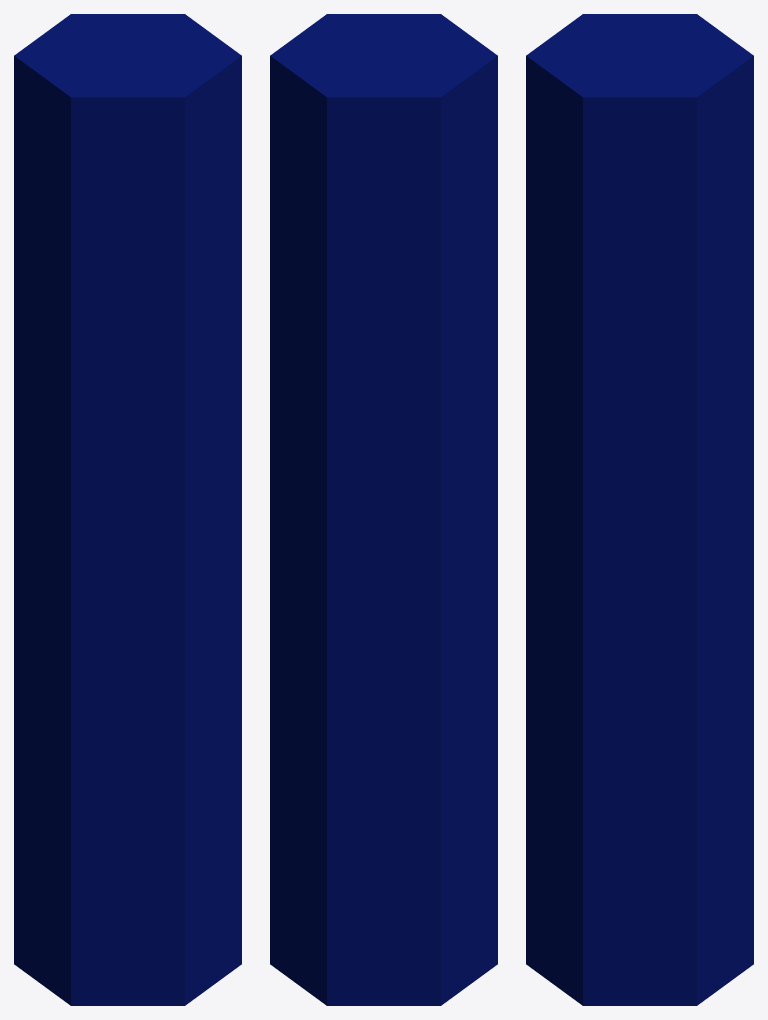
The model's file is WaterTile.fbx.
The picture shows the model from 3 angles, left to right: view 1: azimuth 30°, elevation 25°; view 2: azimuth 150°, elevation 25°; view 3: azimuth 270°, elevation 25°; orthographic projection.
Visible parts, largest first — view 1: Tile; view 2: Tile; view 3: Tile.
Part boxes in pixels (<box>): Tile: <box>14,14,241,1005</box>; Tile: <box>270,14,497,1005</box>; Tile: <box>526,14,753,1005</box>.
Size of the model in its own units: 115 by 100 by 508.
